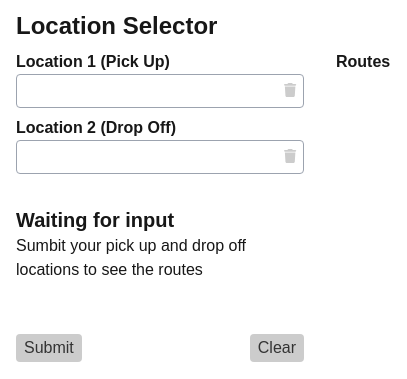
Scenario: Home › clear location input when clear btn is clicked
Type "test" into the field below "Location 1 (Pick Up)" at (160, 91), box [16, 74, 304, 108]
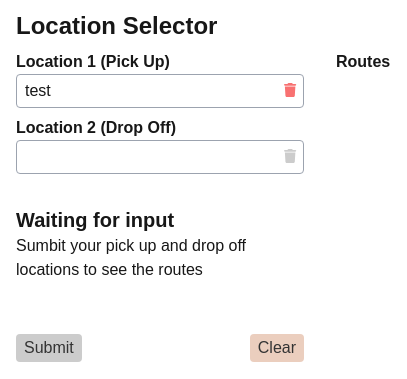
Type "test" into the field below "Location 2 (Drop Off)" at (160, 157), box [16, 140, 304, 174]
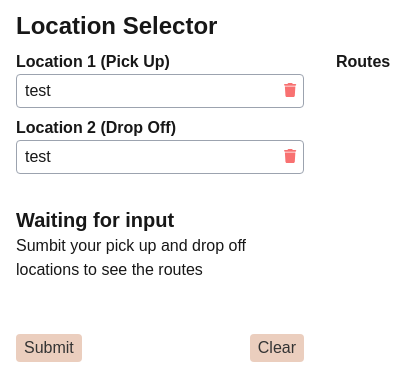
Click the button with class "clear" at (277, 348), box [250, 334, 304, 362]
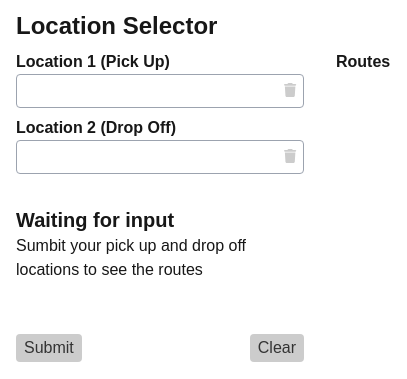
expect the field below "Location 1 (Pick Up)" is empty: met, box [16, 74, 304, 108]
expect the field below "Location 2 (Drop Off)" is empty: met, box [16, 140, 304, 174]
